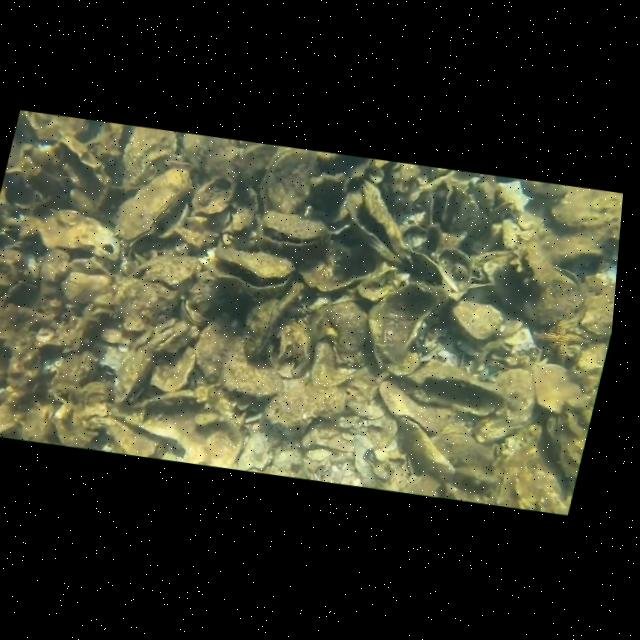Oyster-Closed: (115, 168, 191, 240), (260, 147, 317, 214), (53, 381, 110, 447), (433, 178, 490, 239), (524, 269, 583, 325), (114, 278, 177, 325), (581, 268, 617, 339), (452, 300, 503, 341), (357, 263, 408, 302), (143, 254, 201, 287), (6, 342, 40, 392), (192, 177, 235, 214), (146, 320, 192, 354), (437, 248, 471, 287), (181, 291, 214, 326)
Oyster-Indeterminate: (551, 187, 623, 240), (379, 381, 450, 434), (222, 356, 284, 397), (533, 363, 582, 413), (61, 271, 113, 304)
Oyster-Open: (403, 361, 504, 416), (345, 181, 411, 263), (206, 246, 295, 297), (495, 240, 556, 307), (255, 211, 329, 265), (55, 136, 111, 206)
